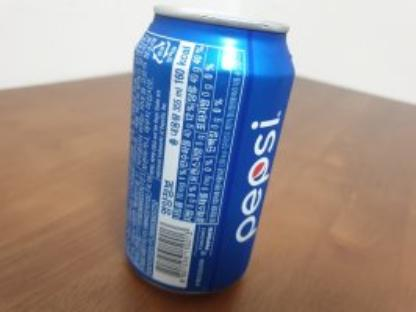Can: (122, 4, 298, 298)
